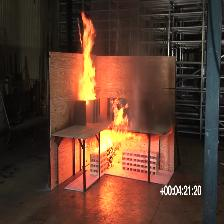fire: (77, 12, 96, 101), (100, 129, 123, 171), (110, 104, 128, 135)
